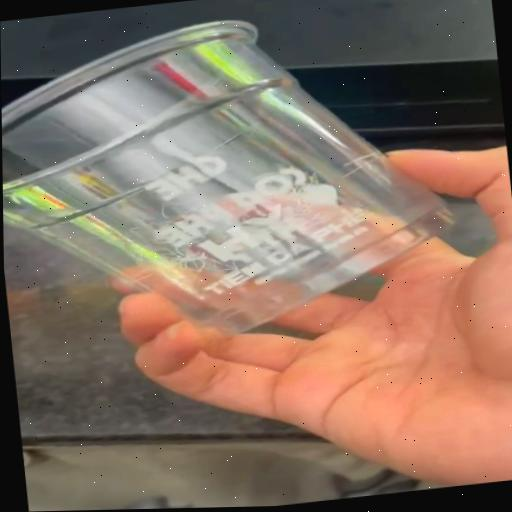ly_nhua: (2, 21, 452, 332)
